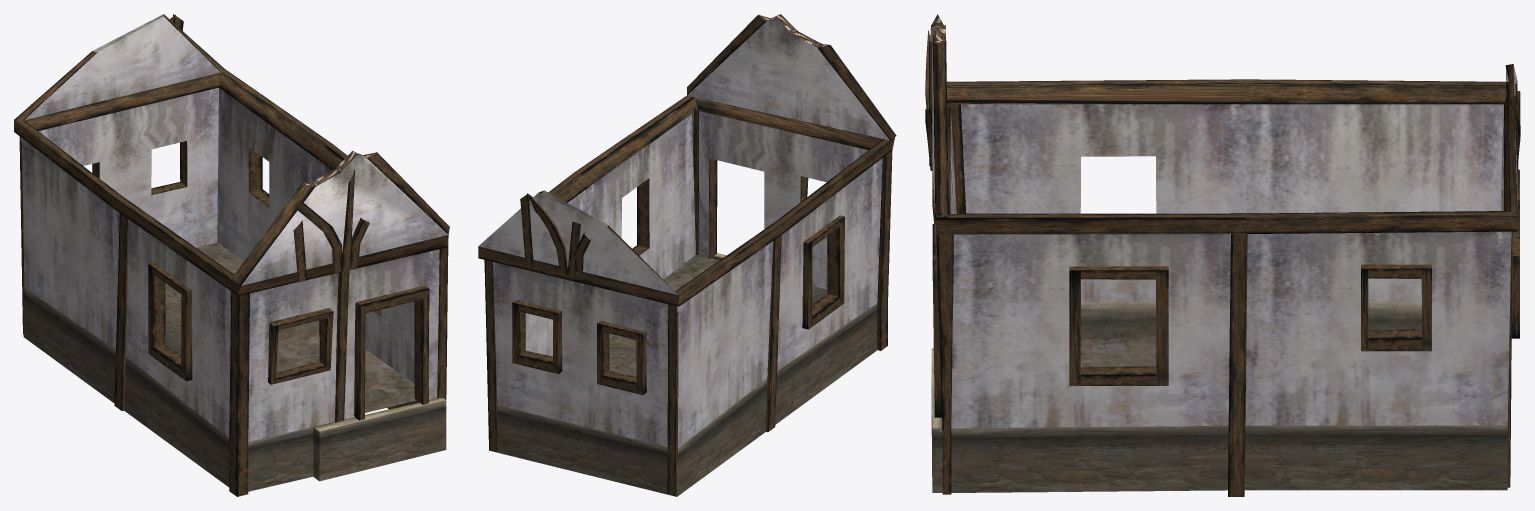
Rendered from english_m_burned.fbx.
3 views of the same model, side by side, from view 1: azimuth 30°, elevation 25°; view 2: azimuth 150°, elevation 25°; view 3: azimuth 270°, elevation 25° (orthographic). The views are drawn at different scales.
Visible parts, largest first — view 1: building_shell1, building_shell2, door_frame, window_a_03, window_a_01, beam_vert_tall03, beam_vert_tall014, beam_vert_tall010, window_b_03, beam_vert_tall011, window_b_01, beam_vert_tall09 (+2 smaller); view 2: building_shell1, building_shell2, building_shell3, window_a_03, window_b_02, window_b_01, beam_vert_tall016, beam_vert_tall03, beam_vert_tall015, window_a_02, door_frame, beam_vert_tall06 (+1 smaller); view 3: building_shell1, building_shell2, window_a_02, beam_vert_tall01, window_b_03, building_shell3, door_frame, window_b_01, beam_vert_tall015.
Boxes of the visible parts, <box> form: building_shell1: <box>14,14,449,496</box>; building_shell2: <box>14,14,416,415</box>; door_frame: <box>354,285,429,420</box>; window_a_03: <box>148,262,192,381</box>; window_a_01: <box>268,308,333,384</box>; beam_vert_tall03: <box>114,213,128,410</box>; beam_vert_tall014: <box>335,270,349,422</box>; beam_vert_tall010: <box>296,201,342,273</box>; window_b_03: <box>248,147,269,207</box>; beam_vert_tall011: <box>341,170,354,271</box>; window_b_01: <box>151,141,187,194</box>; beam_vert_tall09: <box>293,220,306,282</box>; building_shell1: <box>478,14,894,496</box>; building_shell2: <box>525,95,889,376</box>; building_shell3: <box>687,15,896,140</box>; window_a_03: <box>802,215,844,329</box>; window_b_02: <box>597,321,646,395</box>; window_b_01: <box>512,300,562,374</box>; beam_vert_tall016: <box>667,304,678,495</box>; beam_vert_tall03: <box>765,235,781,432</box>; beam_vert_tall015: <box>484,260,498,451</box>; window_a_02: <box>632,178,649,255</box>; door_frame: <box>709,158,717,259</box>; beam_vert_tall06: <box>527,193,567,274</box>; building_shell1: <box>930,14,1517,494</box>; building_shell2: <box>946,64,1517,367</box>; window_a_02: <box>1069,266,1168,385</box>; beam_vert_tall01: <box>1228,234,1247,496</box>; window_b_03: <box>1361,264,1431,351</box>; building_shell3: <box>938,41,948,217</box>; door_frame: <box>932,223,941,417</box>; window_b_01: <box>1511,225,1519,338</box>; beam_vert_tall015: <box>1507,231,1512,487</box>.
Size of the model in its own units: 2332 by 3247 by 4207.
1 material, 1 textured.
